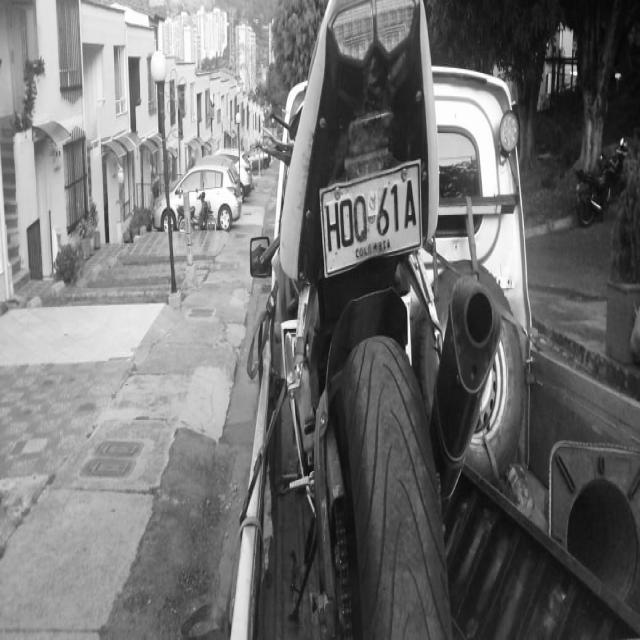plate: (318, 155, 425, 284)
